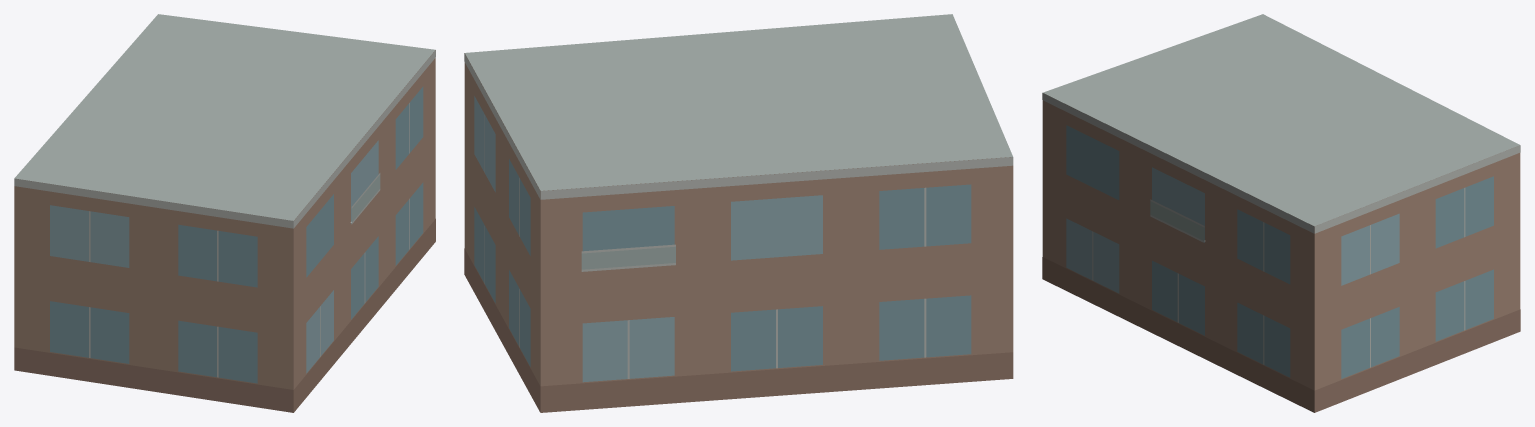
File: survey-upis-32670813.glb
The picture shows the model from 3 angles, left to right: view 1: azimuth 30°, elevation 25°; view 2: azimuth 150°, elevation 25°; view 3: azimuth 270°, elevation 25°; orthographic projection. The views are drawn at different scales.
Visible parts, largest first — view 1: survey-upis-32670813.tmp; view 2: survey-upis-32670813.tmp; view 3: survey-upis-32670813.tmp.
Part boxes in pixels (x1=…): survey-upis-32670813.tmp: x1=14, y1=14, x2=435, y2=412; survey-upis-32670813.tmp: x1=464, y1=14, x2=1013, y2=412; survey-upis-32670813.tmp: x1=1042, y1=14, x2=1520, y2=412.
Size of the model in its own units: 14.91 by 6.1 by 14.17.
